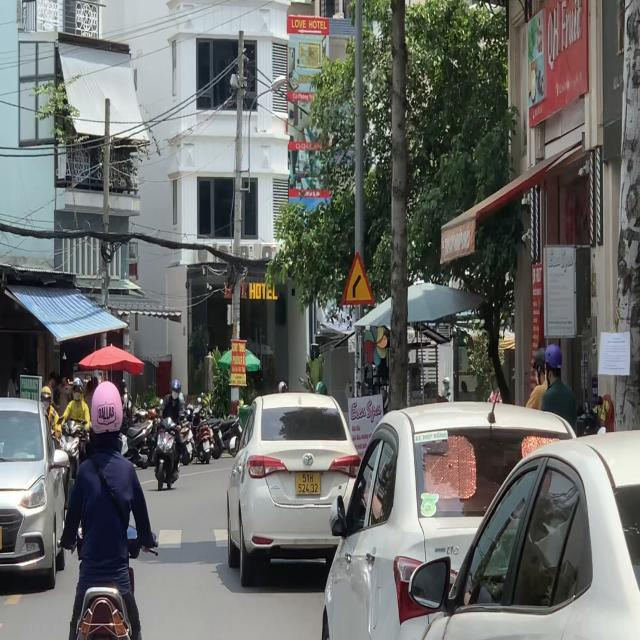Nguy hiem: (339, 250, 375, 306)
